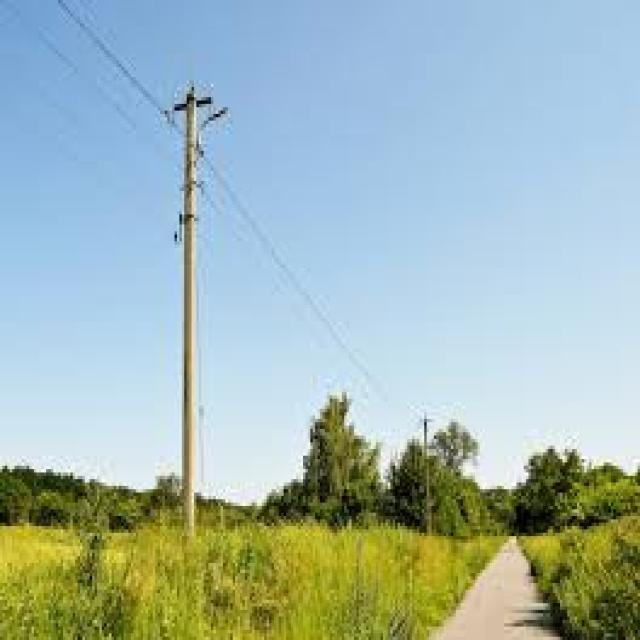light_pole: (146, 71, 242, 538)
